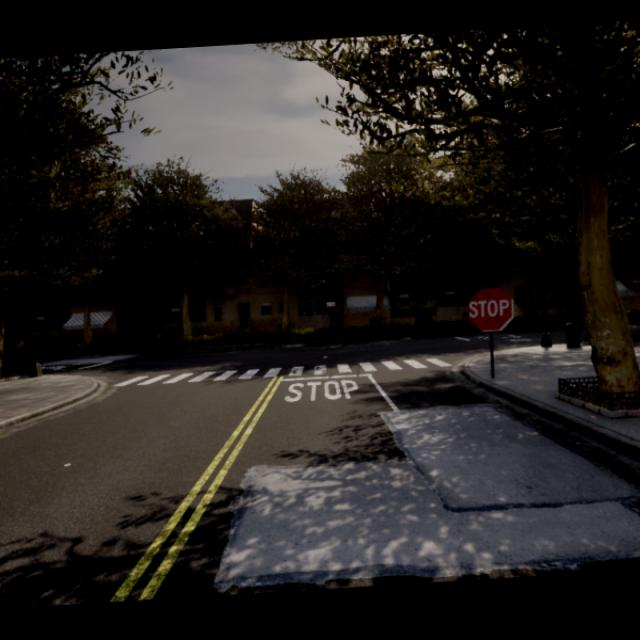stop sign: (466, 284, 515, 334), (468, 296, 510, 319)
